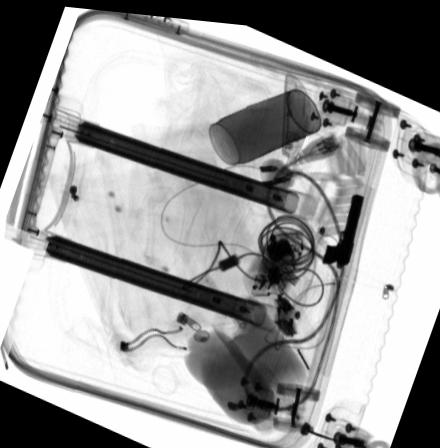Gun: (320, 185, 365, 261)
